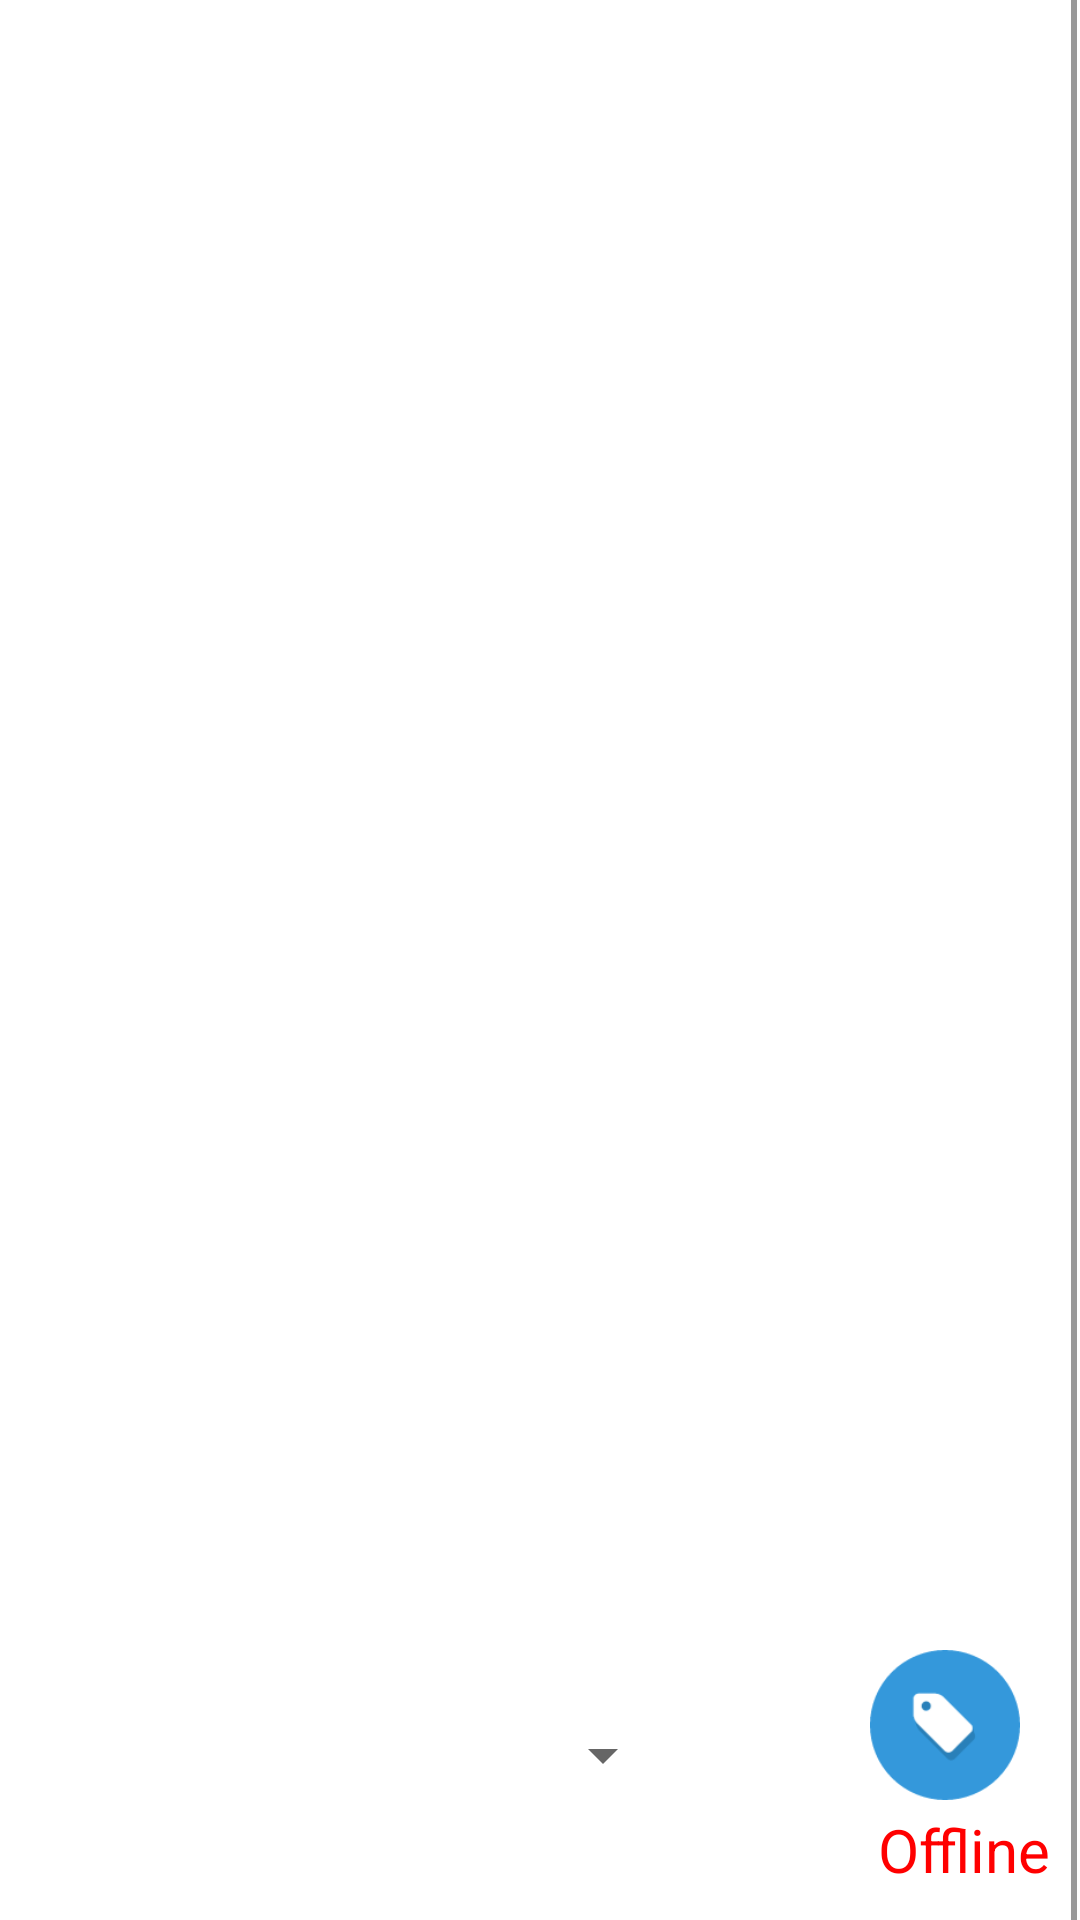

Where to tap for icons on this 1080×1920 app screen, as (x,y):
tag: (945,1725)
